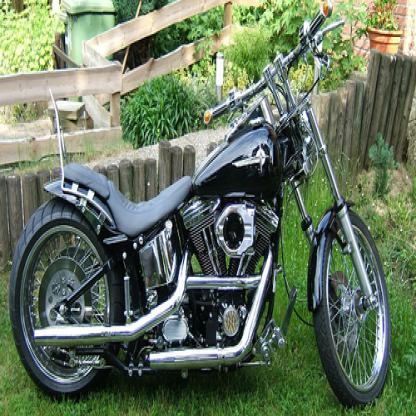motorbike: (8, 1, 392, 407)
pottedplant: (368, 1, 403, 55)
